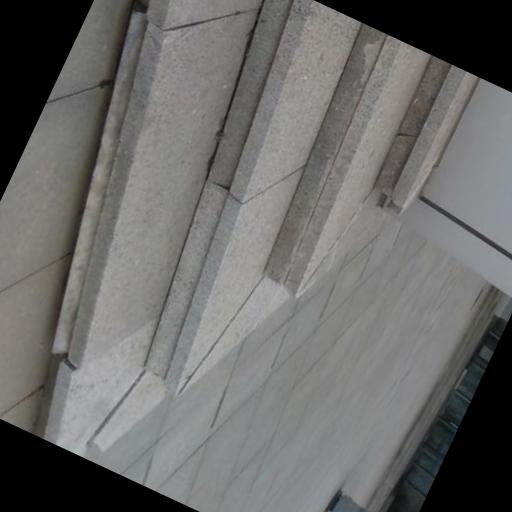stairs: (38, 0, 434, 455), (376, 56, 476, 208)
